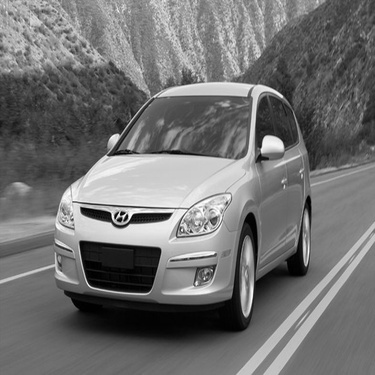car: (48, 69, 317, 332)
